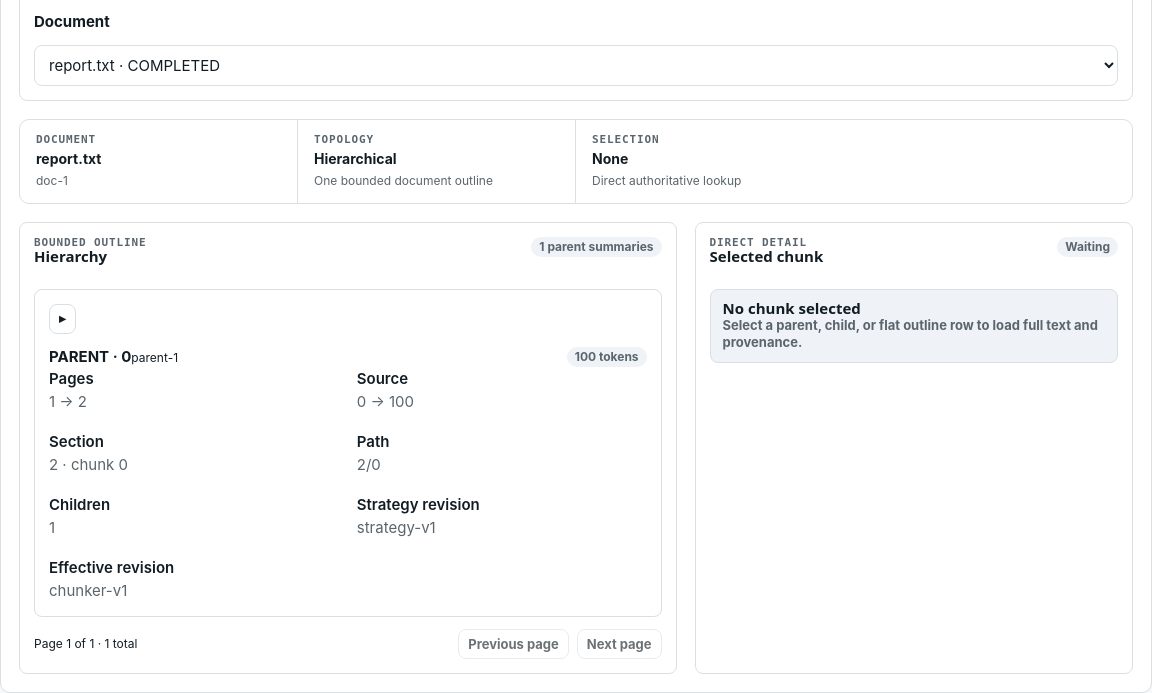
Scenario: ChunkExplorer › loads bounded hierarchy and direct detail without requesting the complete-list route
(page scrolled)
Expected: the text "parent-1" is shown, [131,350,178,365]
Expected: the text "Page 1 of 1 · 1 total" is shown, [34,635,137,653]
Click the button with aria-label "Select chunk parent-1". click: (348, 474)
box: [49,346,647,602]
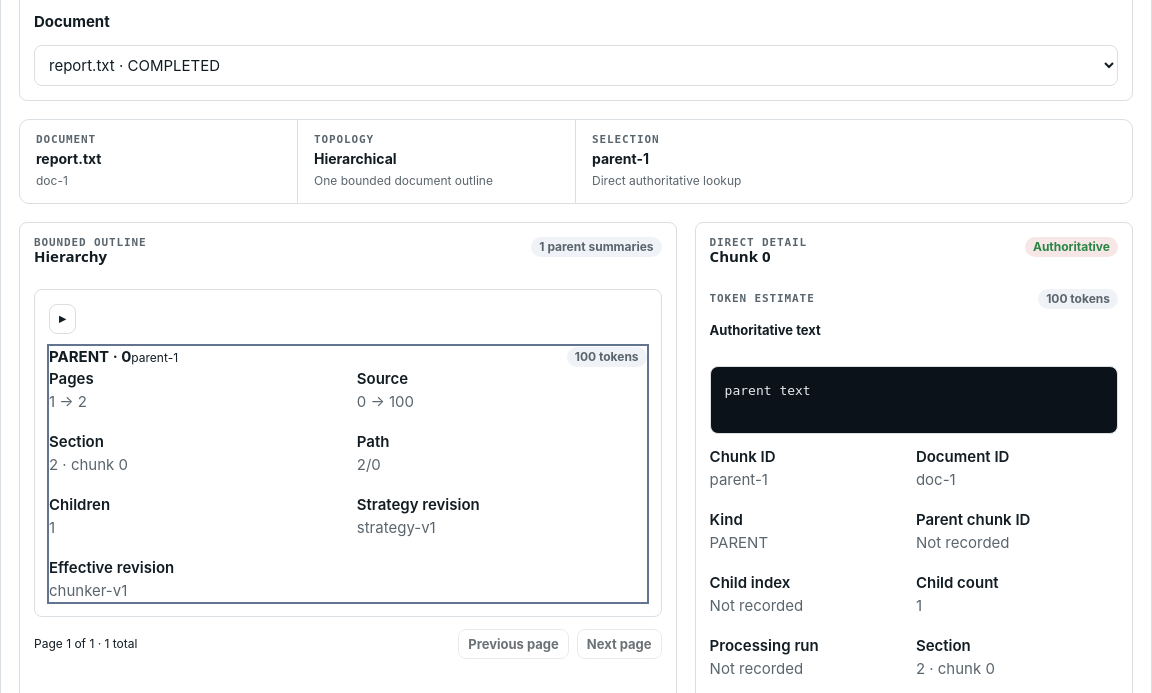
Expected: the text "parent text" is shown, [710,366,1118,434]
Expected: the text "Authoritative text" is shown, [710,322,821,338]
Expected: the text "Not recorded" below "Parent chunk ID" is shown, [916,533,1010,552]
